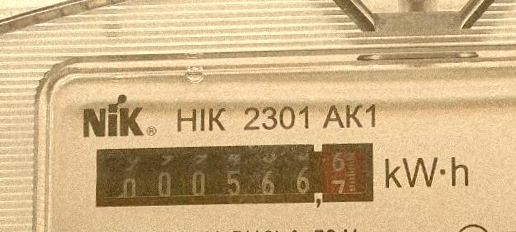0: (188, 168, 207, 197), (154, 168, 172, 197), (119, 174, 138, 197)
5: (223, 167, 242, 196)
6: (292, 163, 312, 195), (256, 167, 276, 196), (330, 149, 347, 175)
7: (330, 177, 346, 196)
9: (122, 152, 140, 172)
screen: (85, 133, 380, 217)
